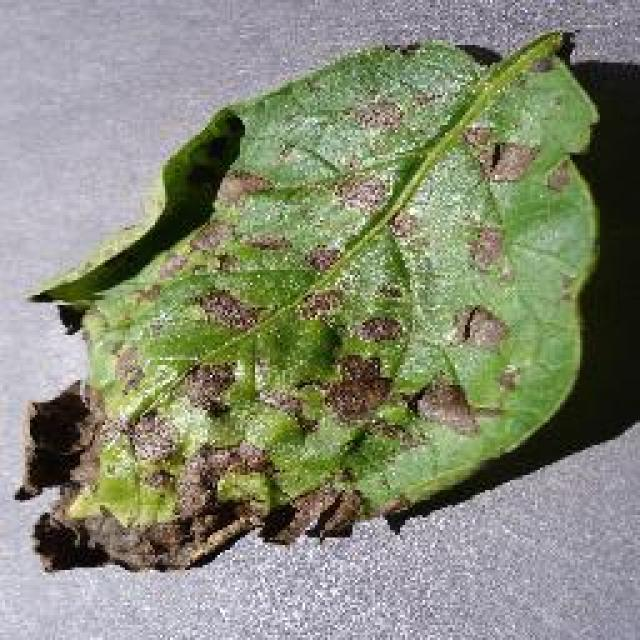Potato___Early_blight: (11, 26, 607, 582)
